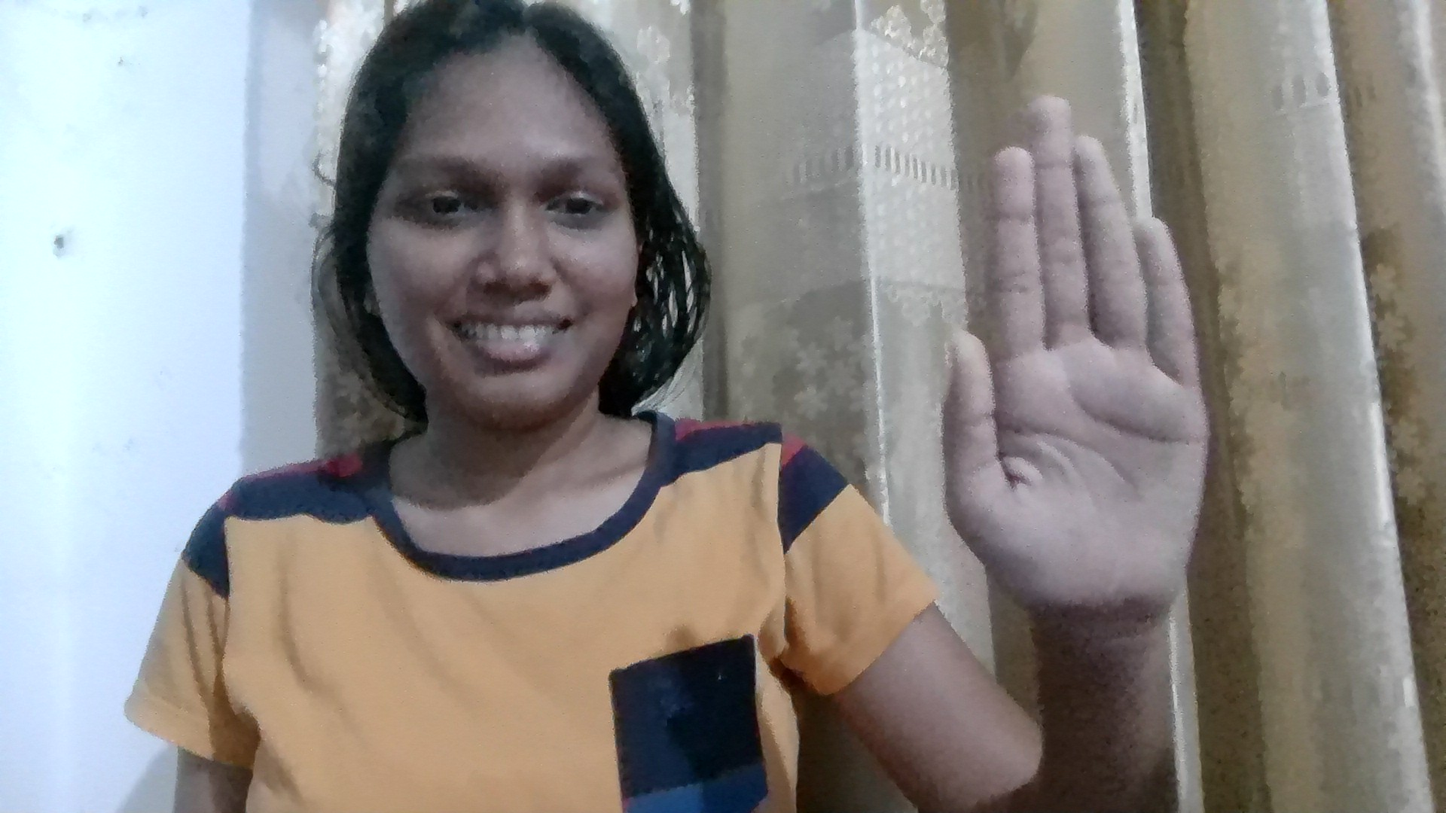Hello: (924, 80, 1345, 791)
